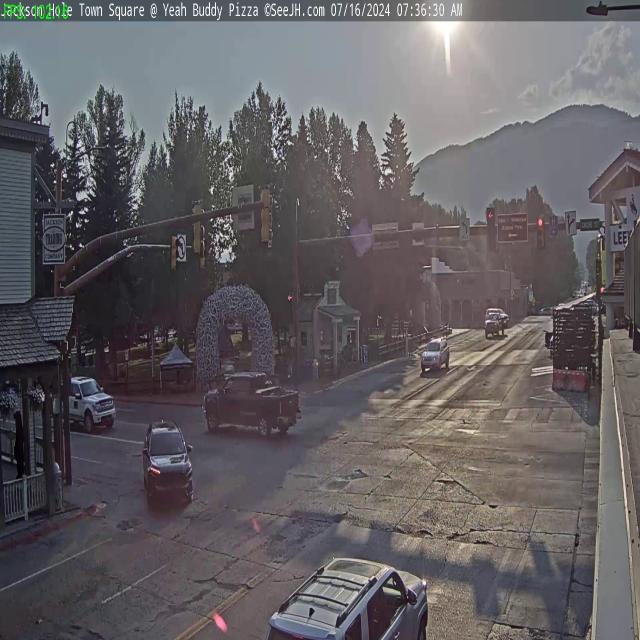pickup: (206, 367, 303, 440), (64, 376, 114, 435)
suv: (262, 551, 433, 640), (142, 418, 194, 503), (420, 336, 450, 376)
traffic light: (260, 184, 272, 244), (191, 201, 203, 256), (486, 207, 497, 252), (170, 234, 179, 271), (536, 215, 545, 248)
